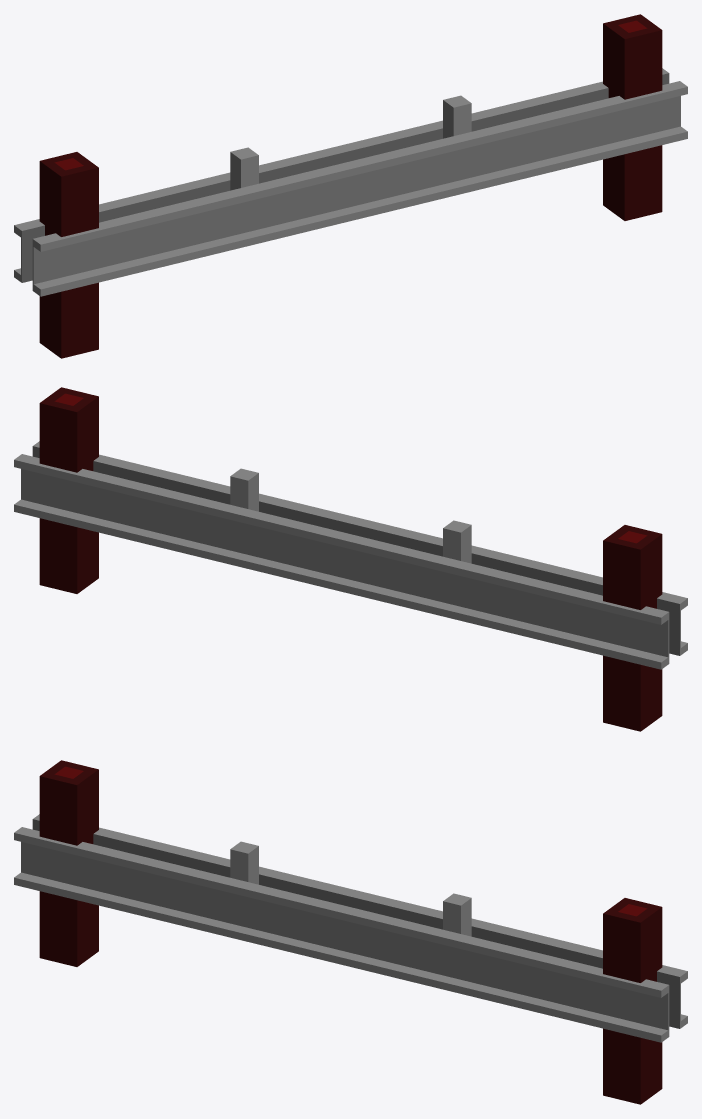
File: rmc_support.obj
The picture shows the model from 3 angles, top to bottom: view 1: azimuth 30°, elevation 25°; view 2: azimuth 150°, elevation 25°; view 3: azimuth 330°, elevation 25°; orthographic projection.
Bounding box in the file's own units: 3.55 × 0.9549 × 0.254.
